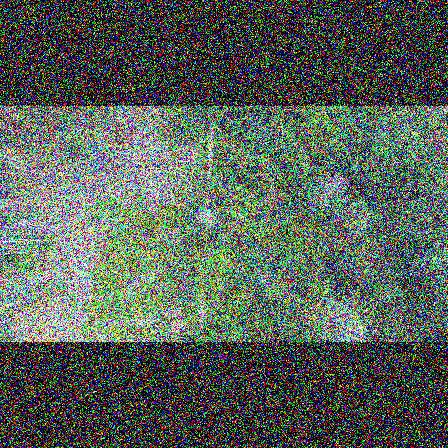Dead: (315, 292, 371, 343), (300, 173, 350, 217), (192, 204, 221, 232)
